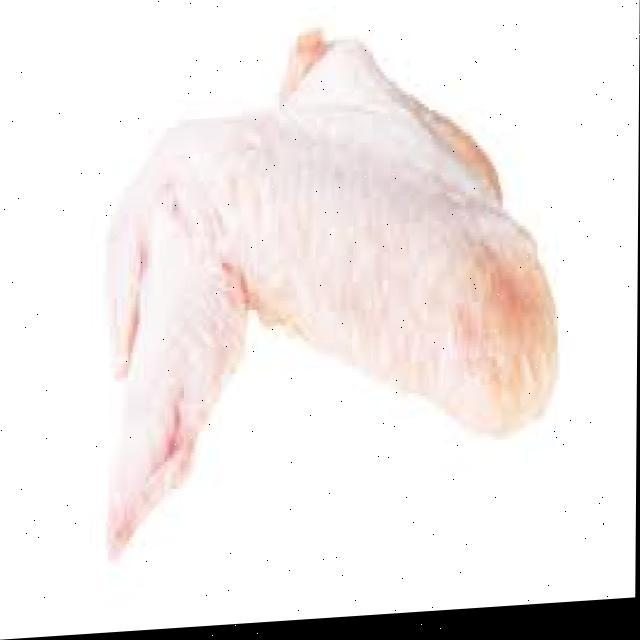wing: (79, 0, 560, 574)
